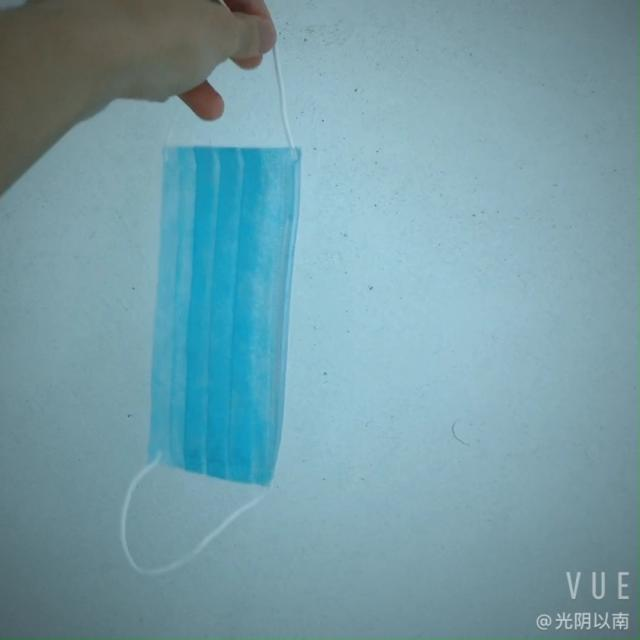non-organic waste: (135, 129, 297, 499)
